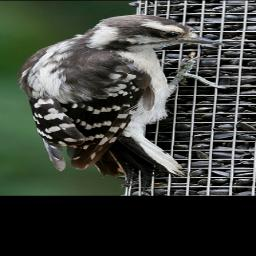Woodpecker: (19, 14, 230, 183)
